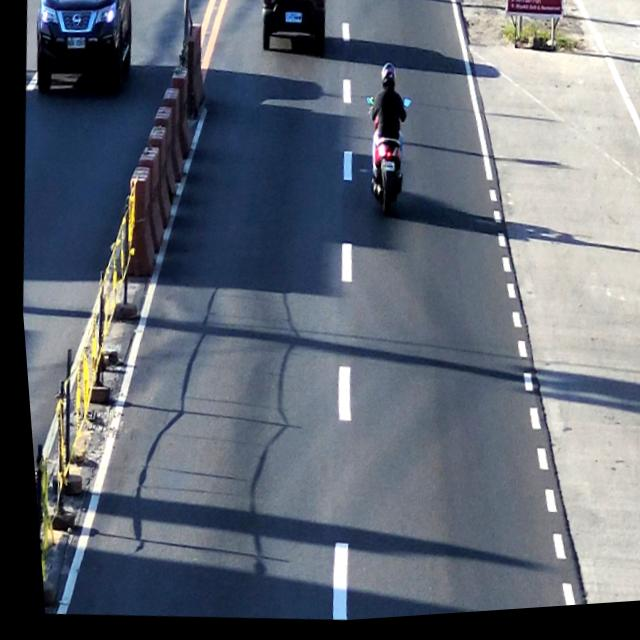Car: (257, 0, 327, 59)
License-Plate: (64, 35, 86, 54), (282, 13, 303, 29), (375, 162, 393, 180)
Motorcycle: (359, 65, 411, 221)
